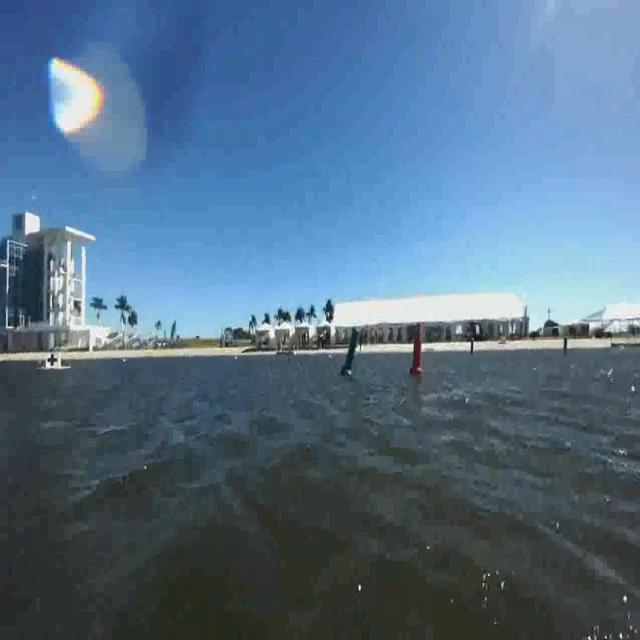green-column-buoy: (342, 325, 364, 376)
red-column-buoy: (410, 324, 426, 376)
